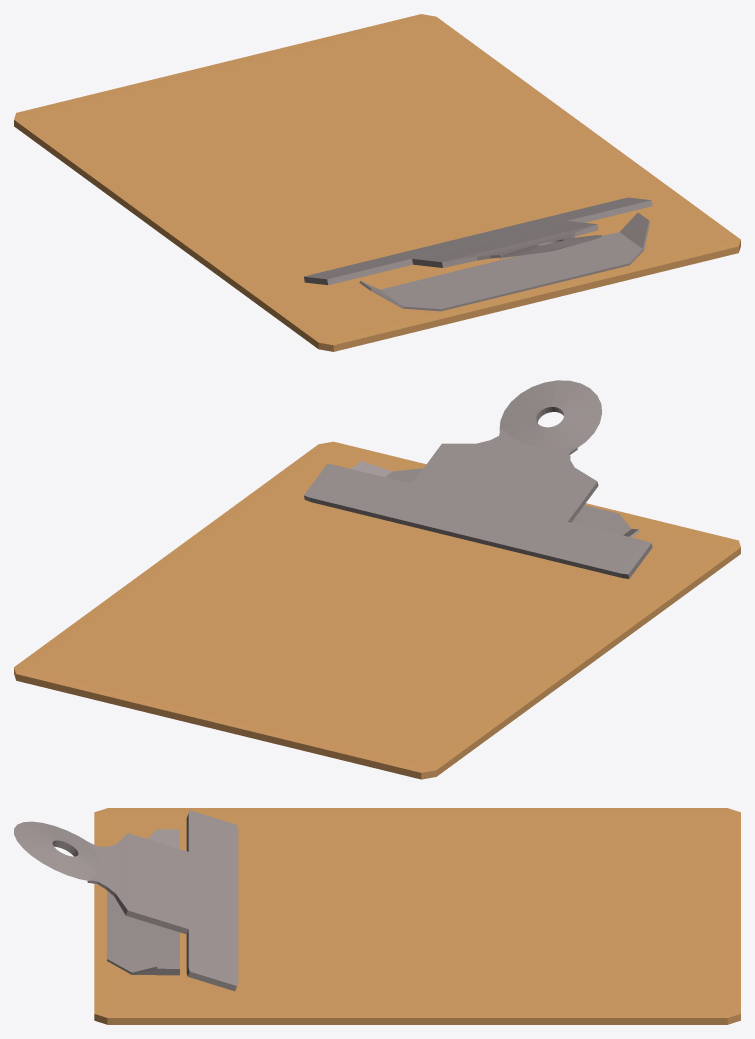
File: clipboard_modelingfbx.fbx
3 renders of one model, top to bottom at view 1: azimuth 30°, elevation 25°; view 2: azimuth 150°, elevation 25°; view 3: azimuth 270°, elevation 25°, orthographic.
Visible parts, largest first — view 1: clipboard_modelingfbx; view 2: clipboard_modelingfbx; view 3: clipboard_modelingfbx.
Boxes of the visible parts, x1,y1,x2,y2 form: clipboard_modelingfbx: (14,14,740,351); clipboard_modelingfbx: (14,380,740,779); clipboard_modelingfbx: (14,808,740,1024).
Bounding box in the file's own units: 252 × 49.61 × 369.
